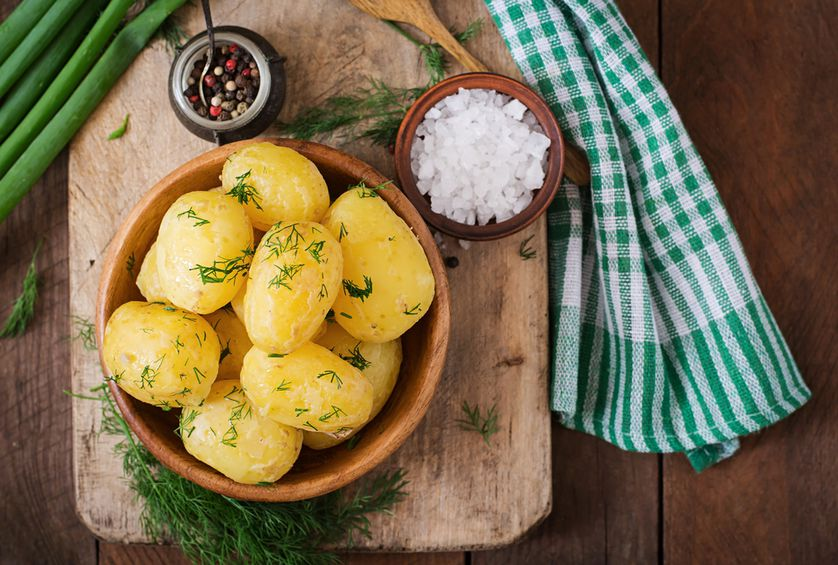boiled potatoes: (330, 184, 423, 333), (239, 229, 333, 352), (110, 300, 210, 411), (248, 347, 372, 435), (179, 393, 292, 482), (158, 196, 249, 302), (231, 149, 325, 231)
